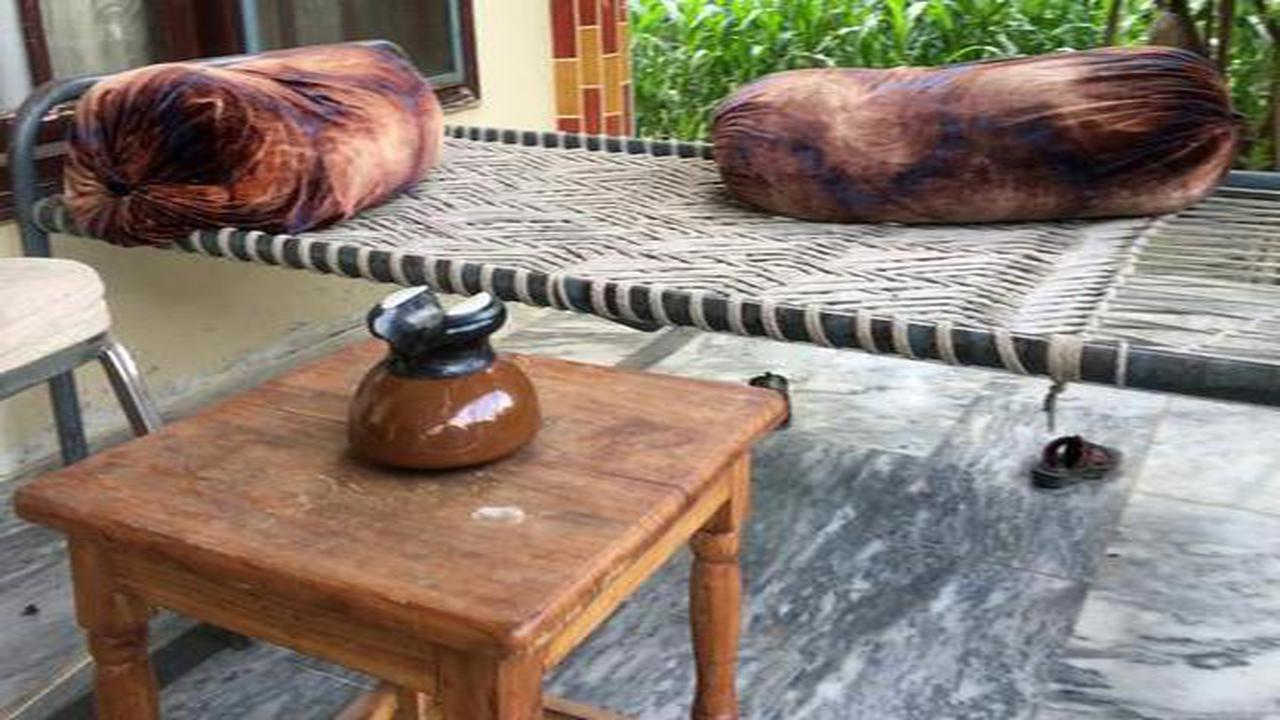insulator_pin: (327, 265, 564, 483)
